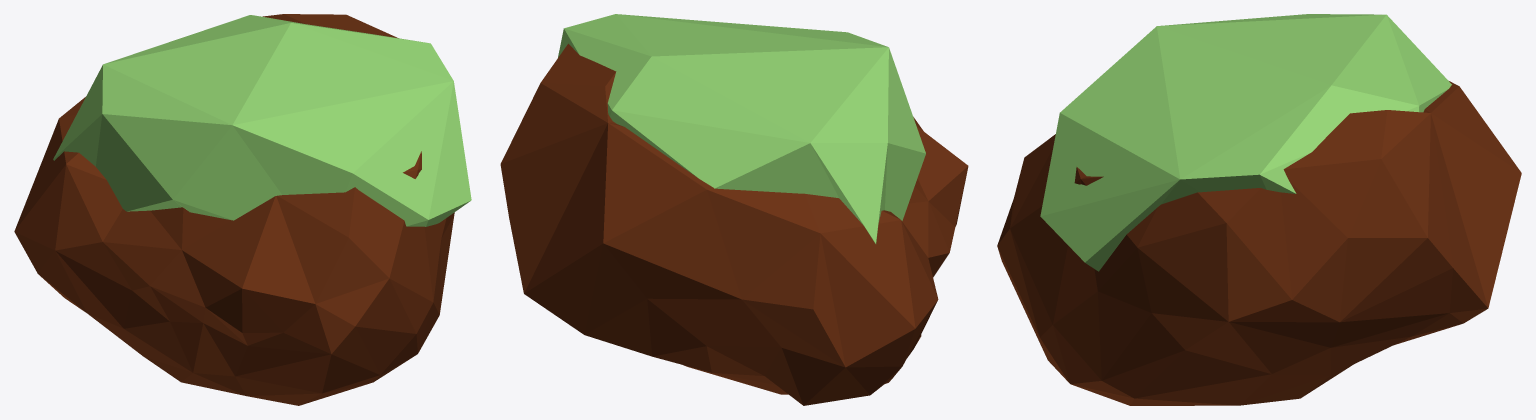
The model's file is Uno_Piataforma.fbx.
3 views of the same model, side by side, from view 1: azimuth 30°, elevation 25°; view 2: azimuth 150°, elevation 25°; view 3: azimuth 270°, elevation 25° (orthographic). The views are drawn at different scales.
Visible parts, largest first — view 1: Sphere.029, Sphere.028; view 2: Sphere.029, Sphere.028; view 3: Sphere.029, Sphere.028.
Boxes of the visible parts, x1,y1,x2,y2 form: Sphere.029: [14, 14, 454, 405]; Sphere.028: [53, 15, 471, 226]; Sphere.029: [500, 43, 968, 405]; Sphere.028: [558, 14, 925, 243]; Sphere.029: [997, 81, 1521, 405]; Sphere.028: [1040, 14, 1451, 271].
Bounding box in the file's own units: 36.77 × 27.82 × 37.68.
